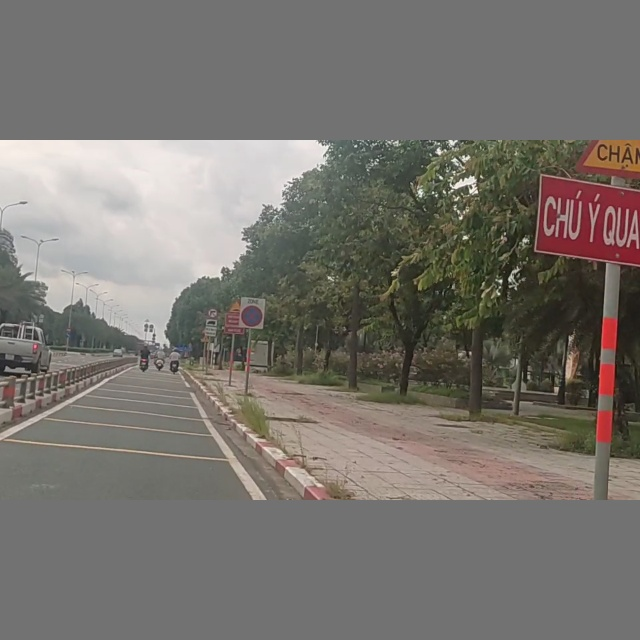P.123b: (206, 308, 219, 319)
P.130: (238, 295, 265, 331)
S.505a*Xe tai: (204, 318, 217, 338)
